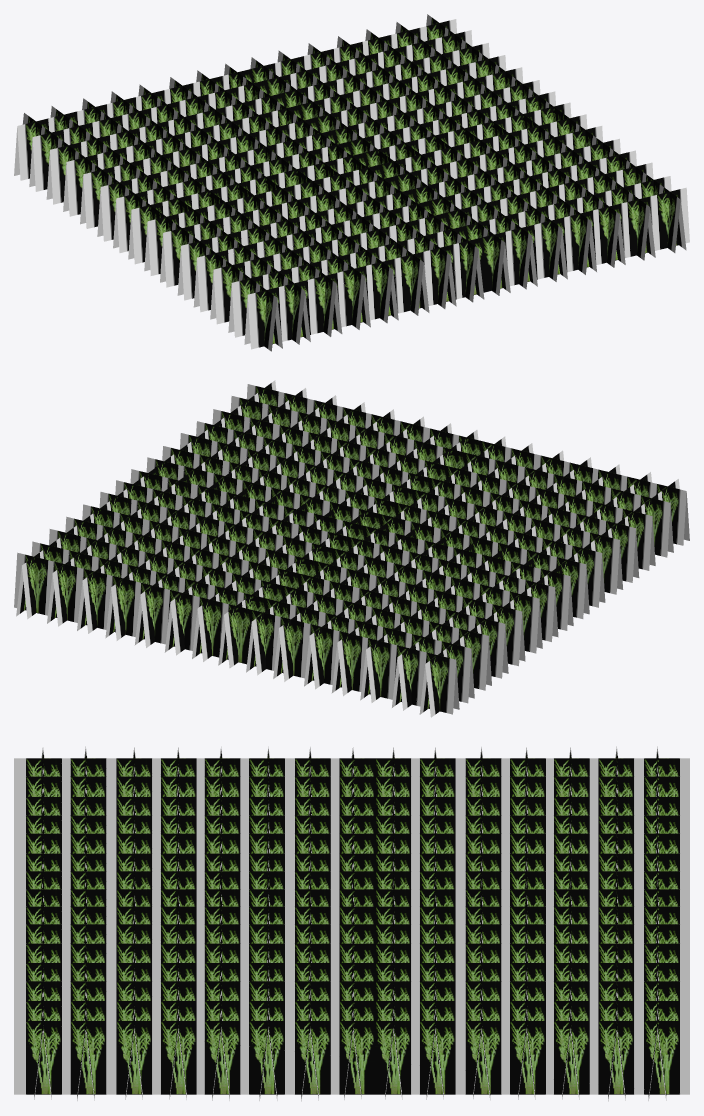
The model's file is farm_rice.dae.
3 views of the same model, one above another, from view 1: azimuth 30°, elevation 25°; view 2: azimuth 150°, elevation 25°; view 3: azimuth 270°, elevation 25° (orthographic). The views are drawn at different scales.
Visible parts, largest first — view 1: Plane; view 2: Plane; view 3: Plane.
Boxes of the visible parts, left/top/right/bottom form: Plane: left=14, top=14, right=689, bottom=351; Plane: left=14, top=380, right=689, bottom=717; Plane: left=14, top=746, right=689, bottom=1101.
Size of the model in its own units: 16.86 by 16.86 by 1.93.
